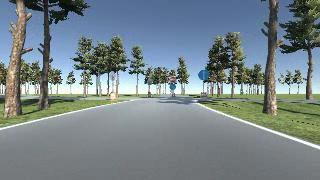go_ahead: (198, 69, 208, 80)
